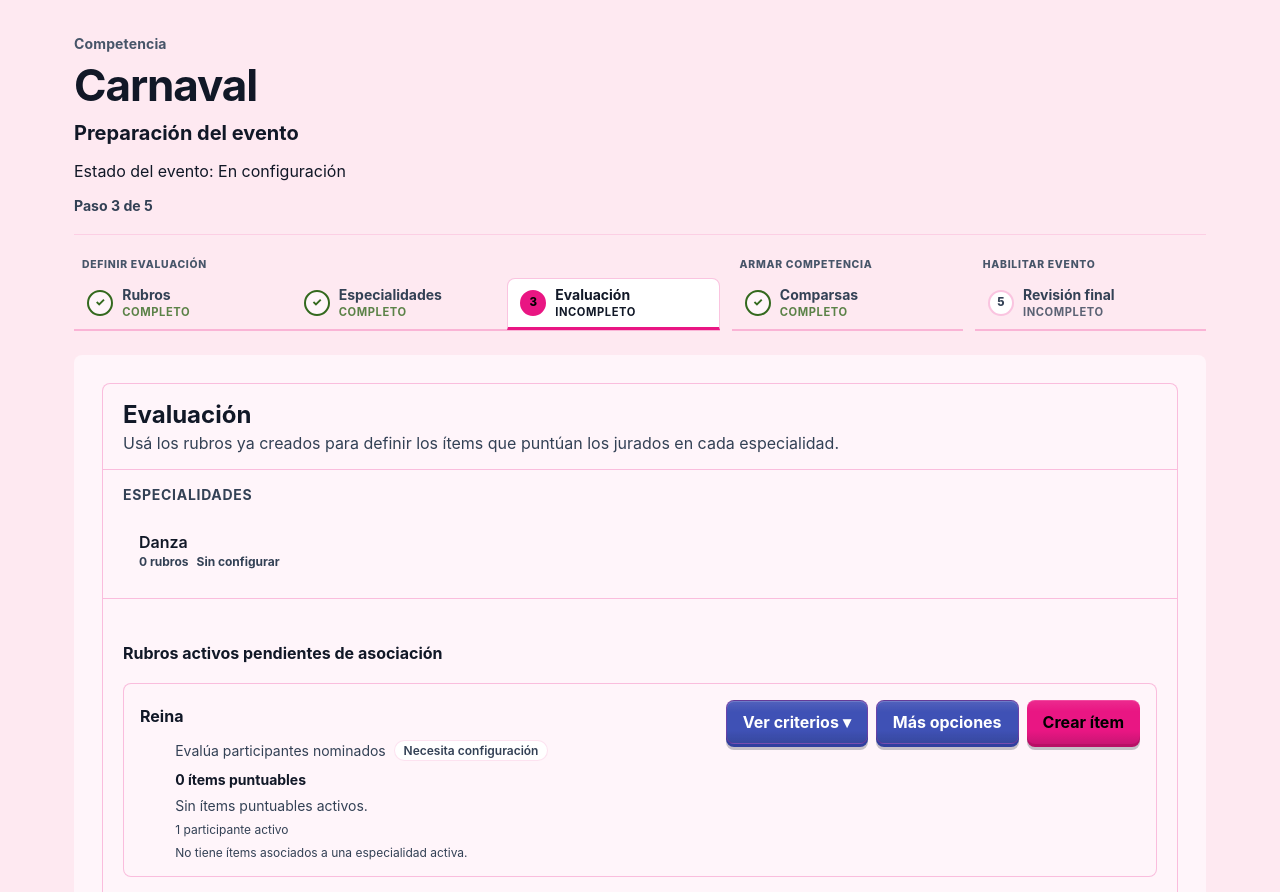
Scenario: Evaluación usa el rubro existente y muestra sus participantes para crear sus ítems
This screenshot has width=1280, height=892.
Check: the text "1 participante activo" is shown, box [175, 822, 289, 837]
Click the button with aria-label "Crear ítem en Reina".
click(1083, 722)  # box [1027, 700, 1140, 744]
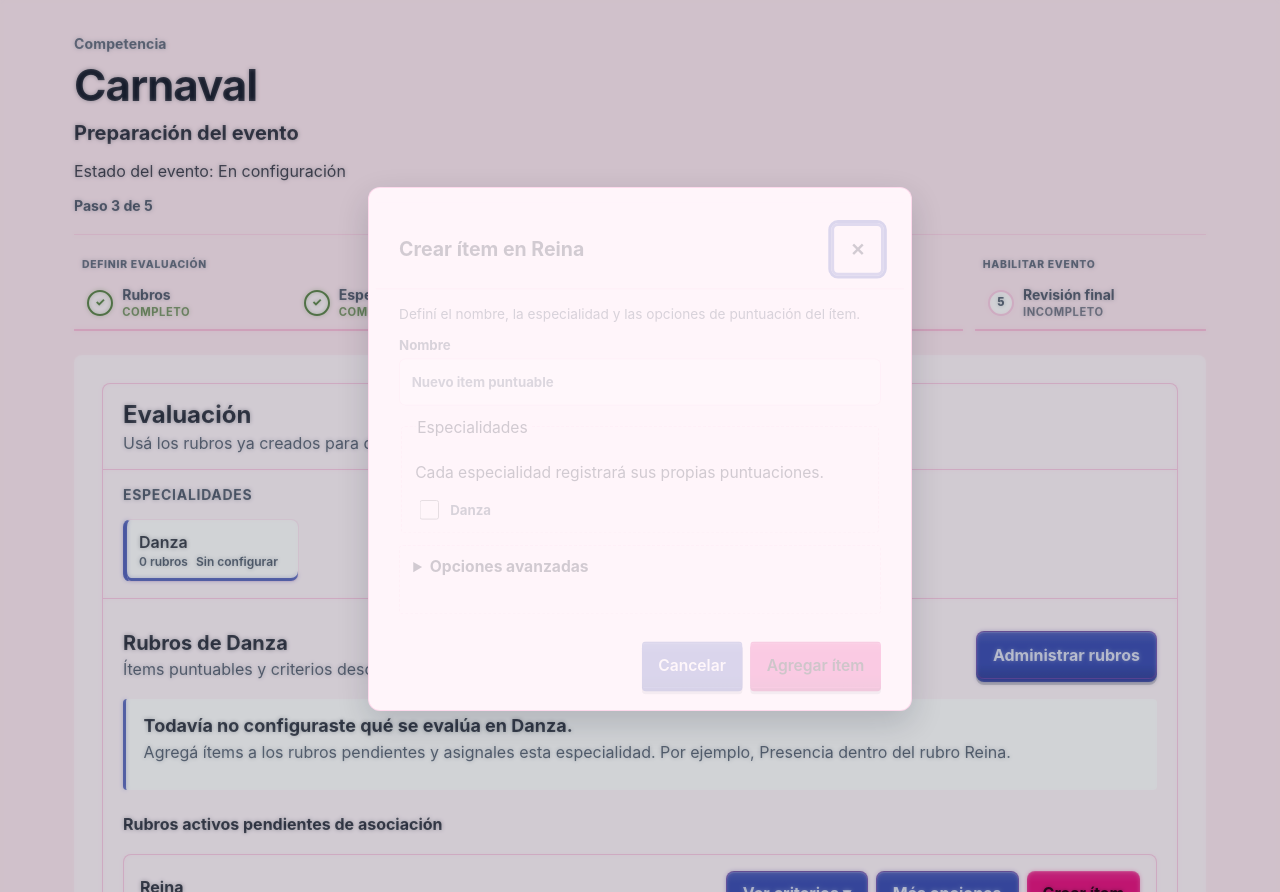
Type "Presencia" into the field named "Nuevo item puntuable para Reina".
click(640, 382); type("Presencia")  # box [399, 358, 881, 405]
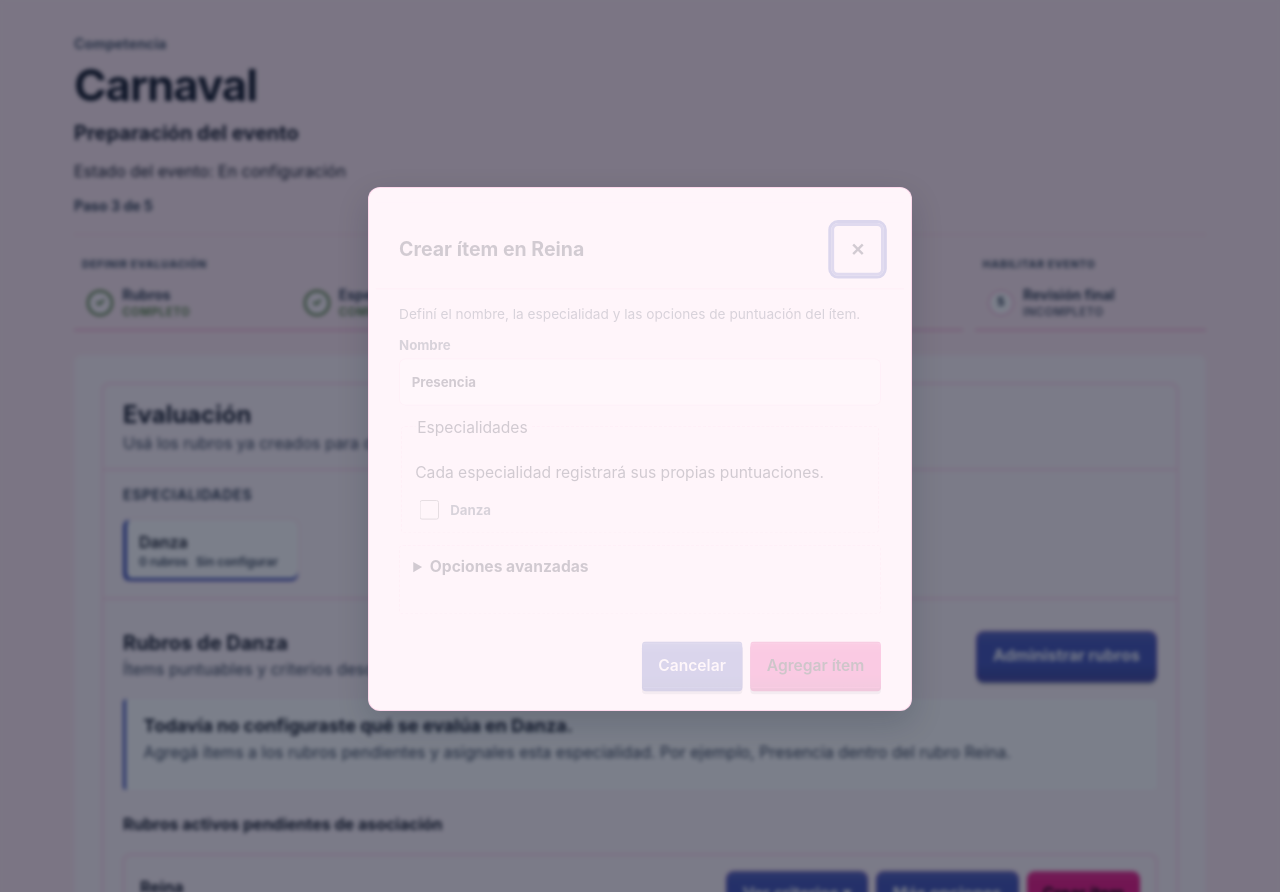
Click the checkbox labelled "Danza".
click(429, 510)  # box [419, 500, 439, 520]
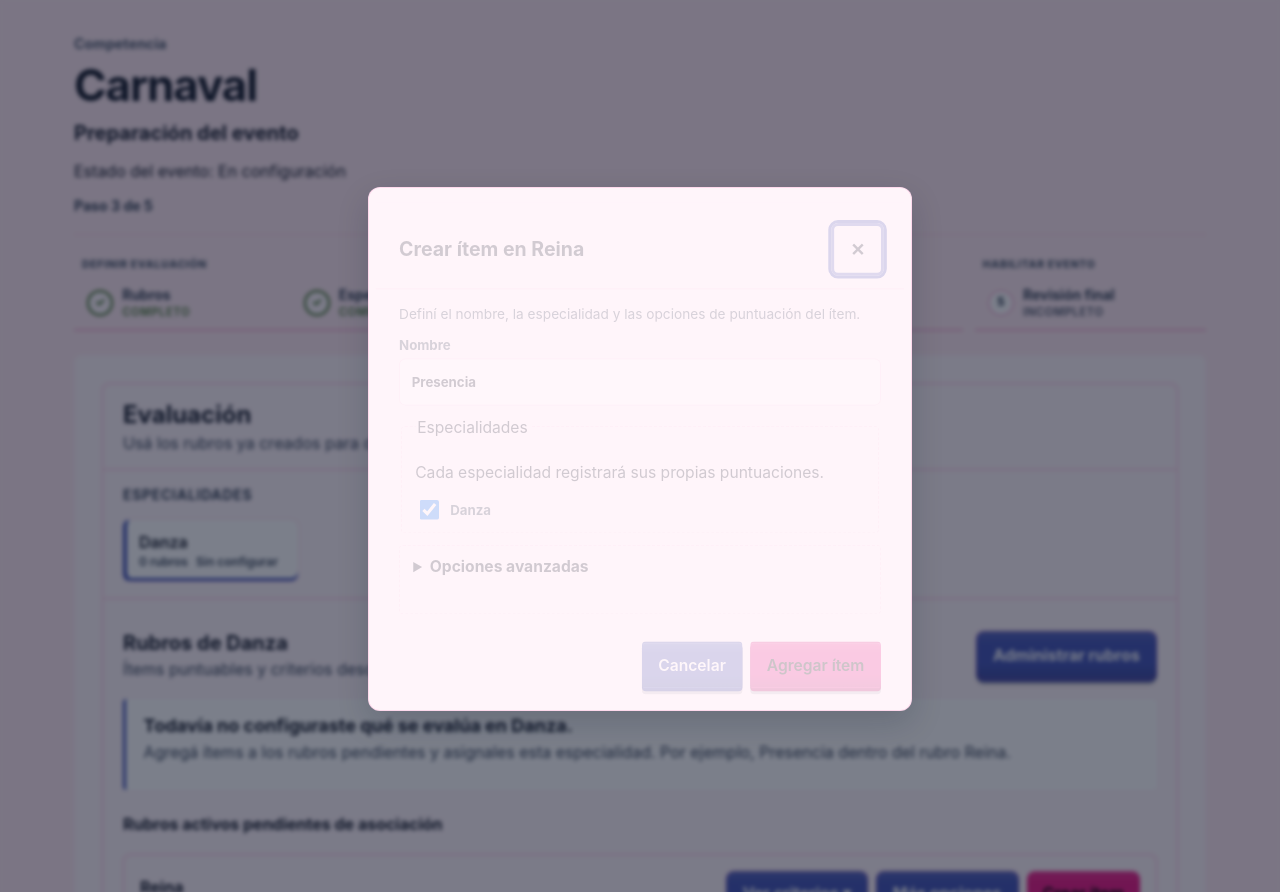
Submit the form, box [399, 337, 881, 688]
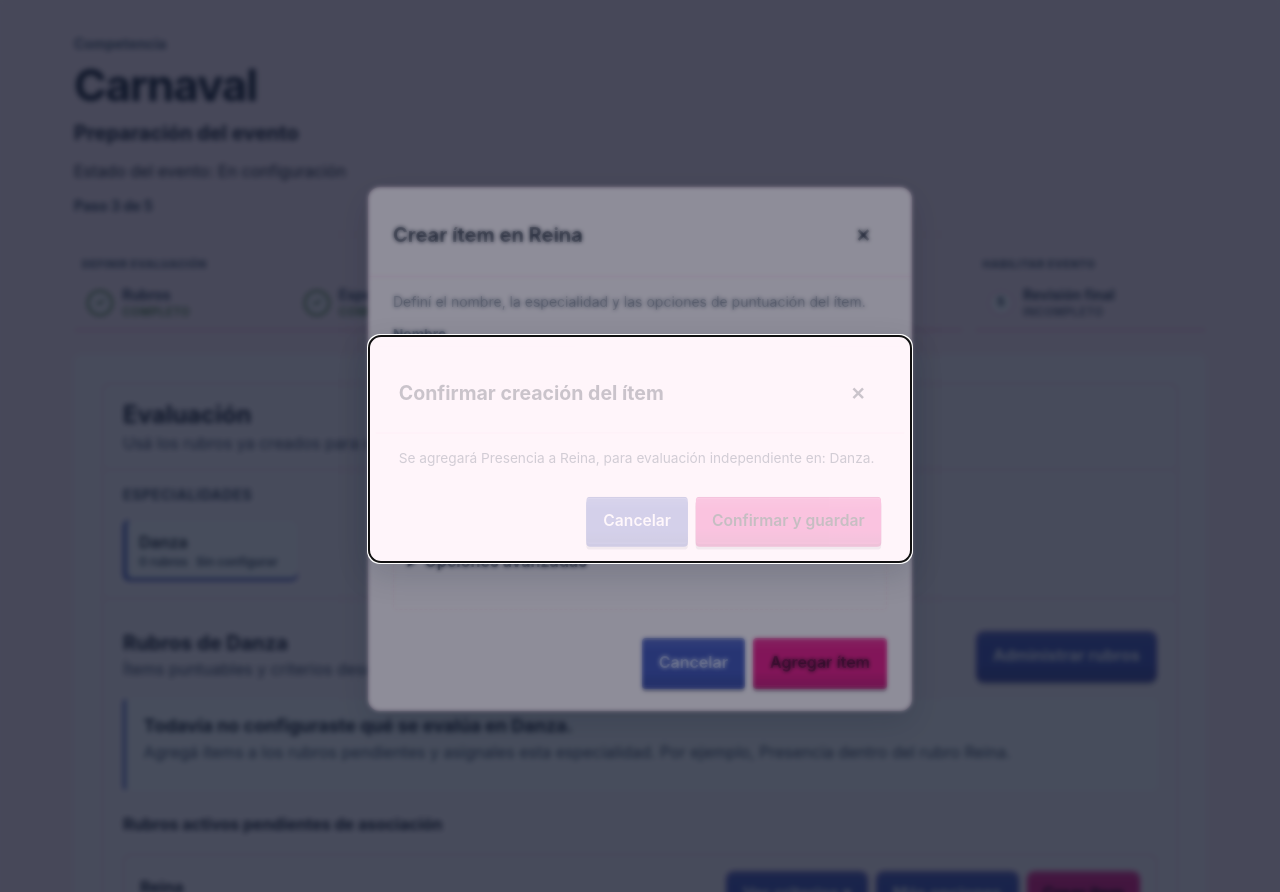
Click the button "Confirmar y guardar".
click(788, 520)  # box [695, 497, 881, 544]
(page scrolled)
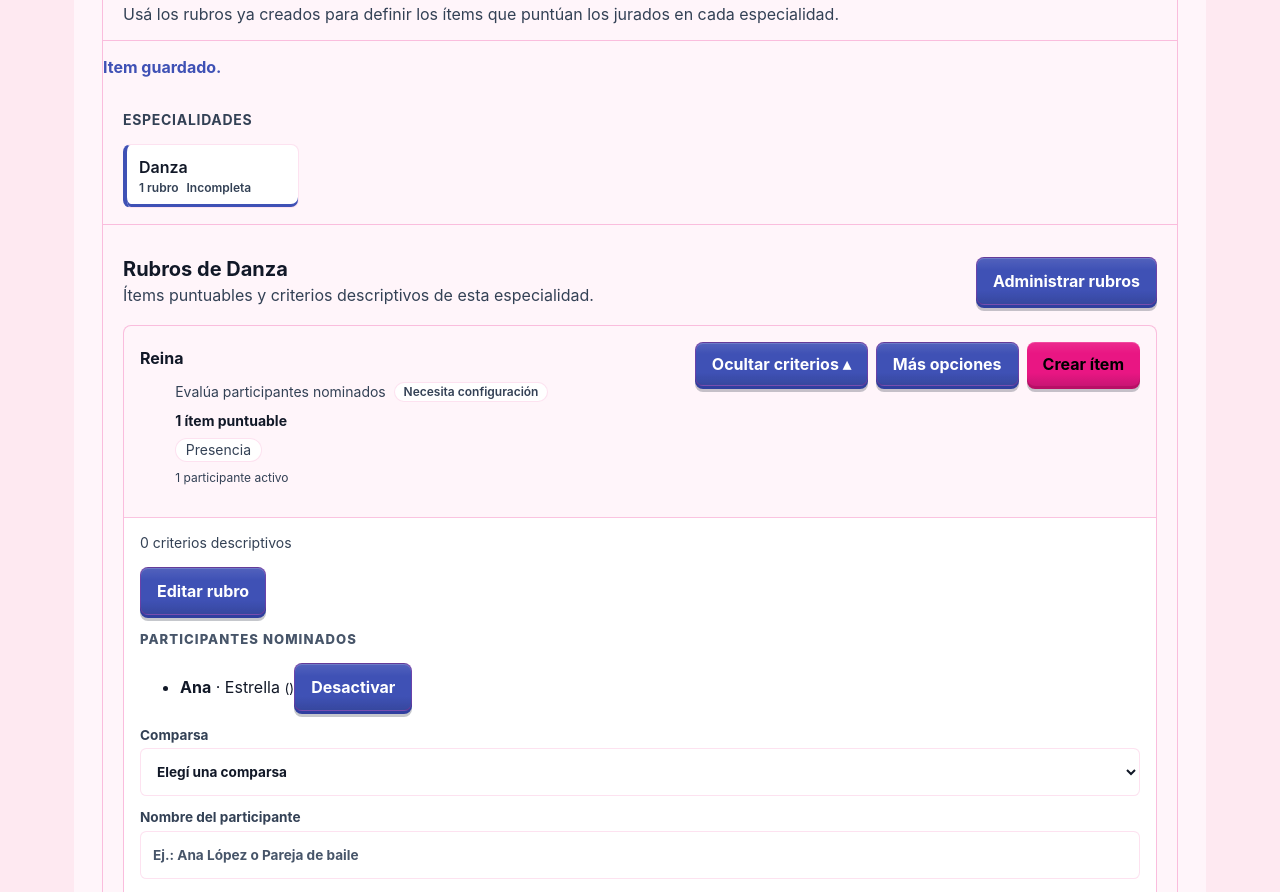
Check: the list item "Presencia" is shown, box [175, 438, 262, 462]
Check: the text "Item guardado." is shown, box [103, 57, 222, 77]
